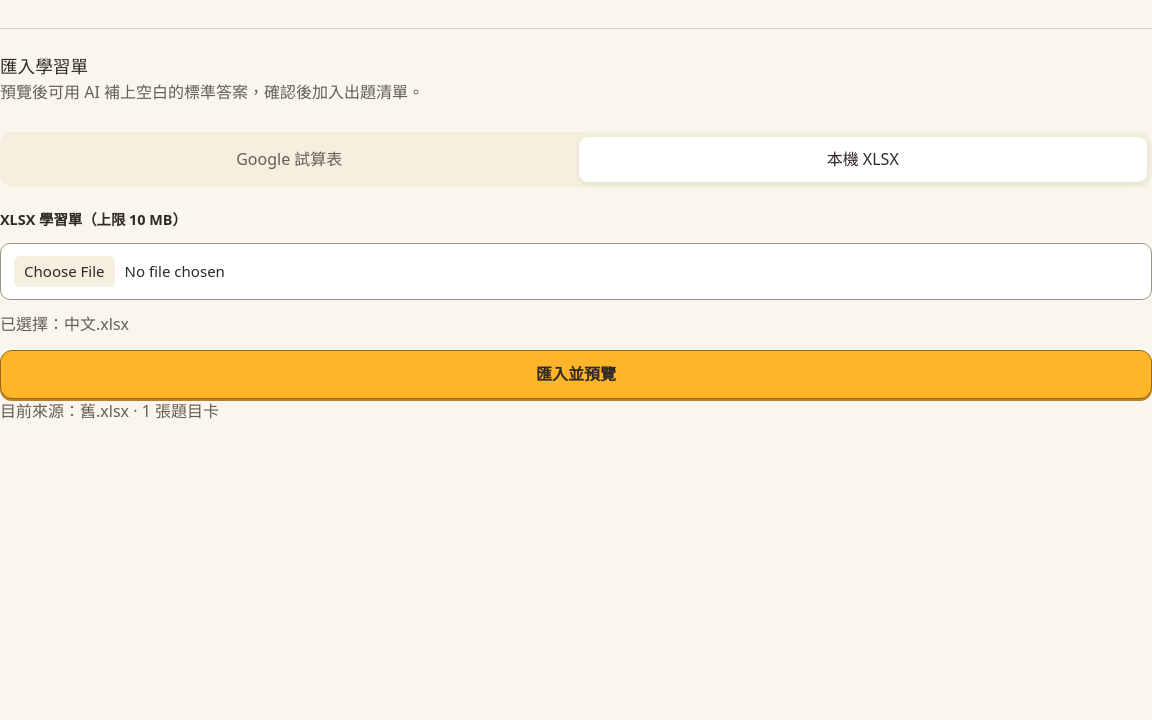
Test case: 二進位同檔多頁確認、忙碌禁切換；候選不取代已發布預覽
Earlier steps of the test are not shown.
Later steps or results of the test are not shown.
Click the button "匯入並預覽": coordinates (576, 374) top-left (0, 350), bottom-right (1151, 399)
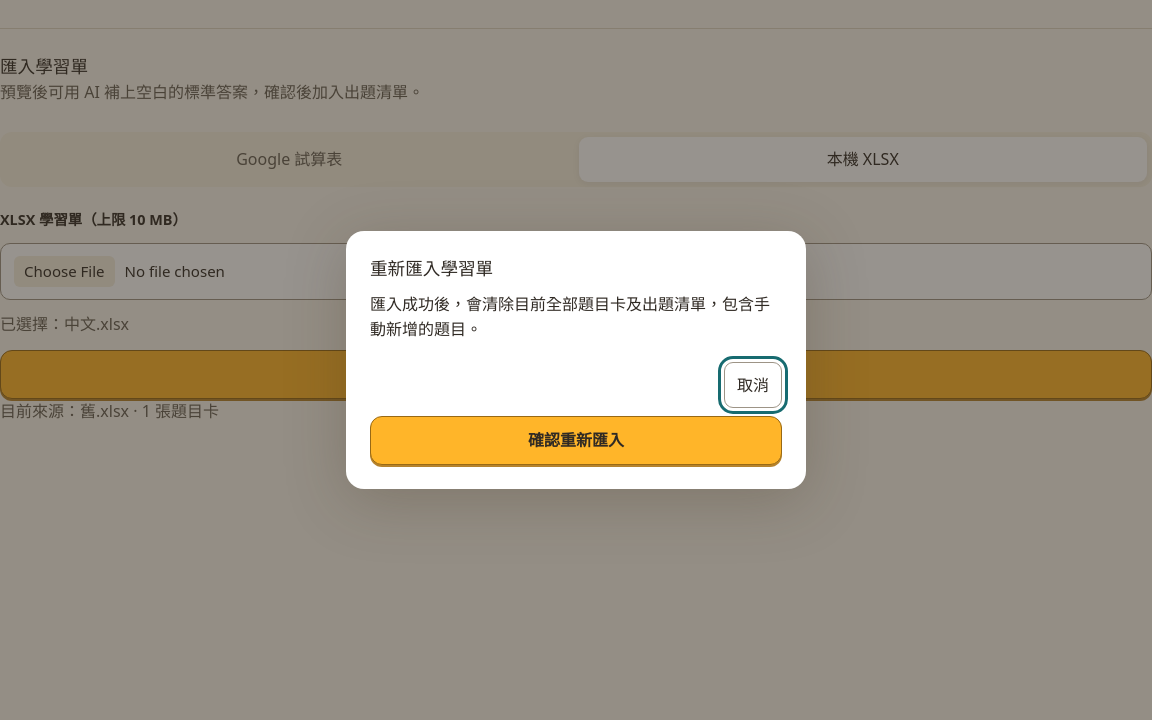
Click the button "確認重新匯入": coordinates (576, 441) top-left (370, 416), bottom-right (782, 465)
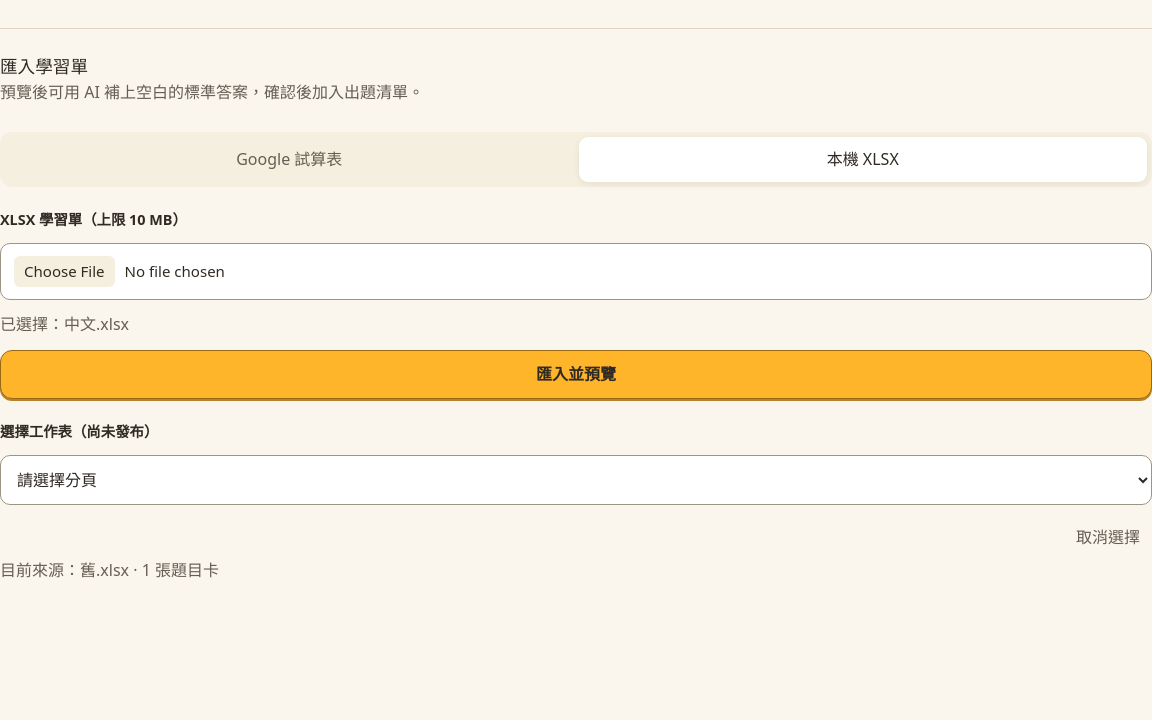
Expected: the text "舊.xlsx" is shown, top-left (80, 559), bottom-right (129, 581)
Result: the text "尚未發布" is shown at top-left (0, 422), bottom-right (158, 441)
Select "第二頁" in the dropdown labelled "選擇工作表（尚未發布）": coordinates (576, 480) top-left (0, 455), bottom-right (1151, 505)
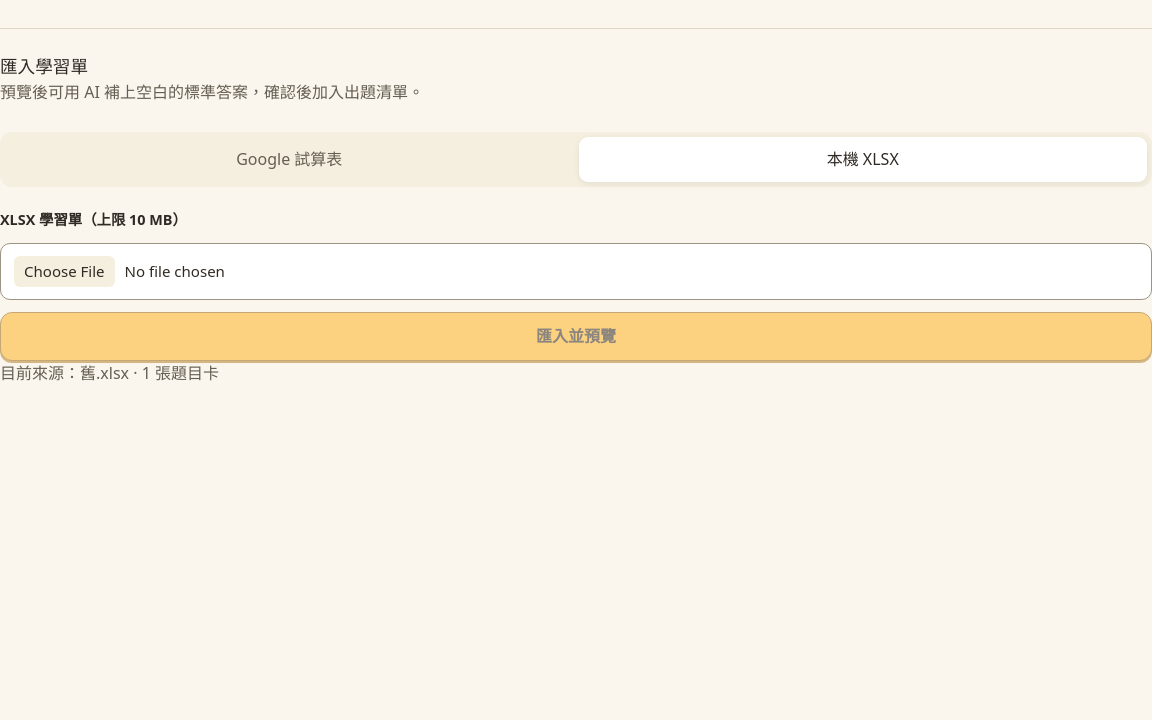
Result: the dropdown is gone
